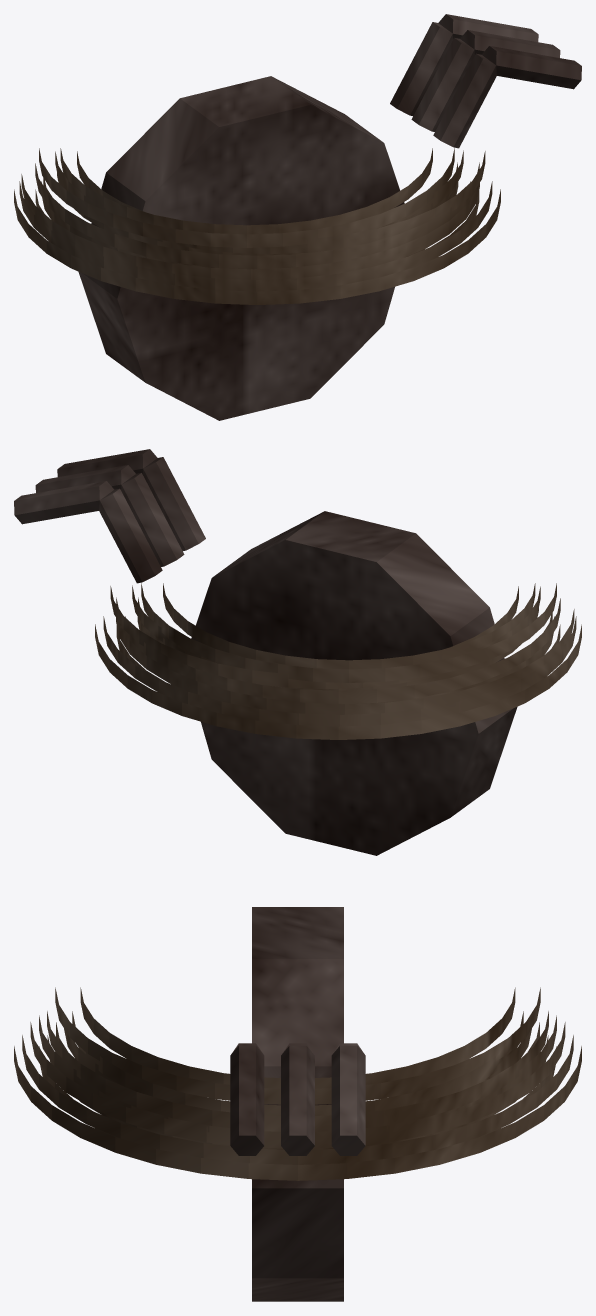
Rendered from 0969_rope_coil_19.glb.
3 views of the same model, one above another, from view 1: azimuth 30°, elevation 25°; view 2: azimuth 150°, elevation 25°; view 3: azimuth 270°, elevation 25° (orthographic). The views are drawn at different scales.
Parts seen in each view (by area): view 1: wood_dark, wood; view 2: wood_dark, wood; view 3: wood, wood_dark.
Boxes of the visible parts, box(x1,y1,x2,y2) form: wood_dark: box(78, 14, 581, 420); wood: box(14, 148, 500, 304); wood_dark: box(14, 449, 517, 855); wood: box(95, 583, 581, 739); wood: box(14, 987, 581, 1180); wood_dark: box(230, 907, 365, 1301).
Bounding box in the file's own units: 1.49 × 0.8607 × 1.23.
2 materials, 2 textured.
